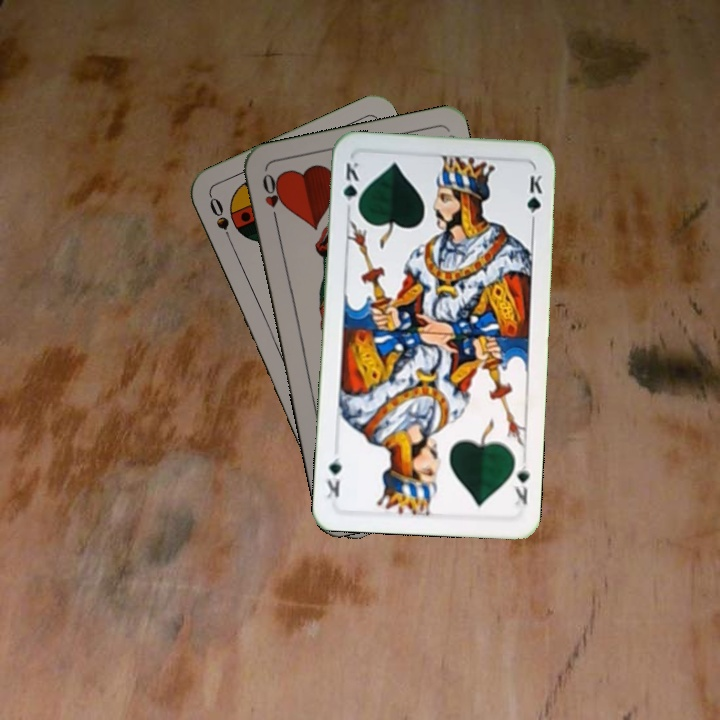GK: (339, 158, 362, 215), (509, 461, 532, 508)
HO: (258, 169, 285, 227)
SO: (205, 193, 237, 249)
